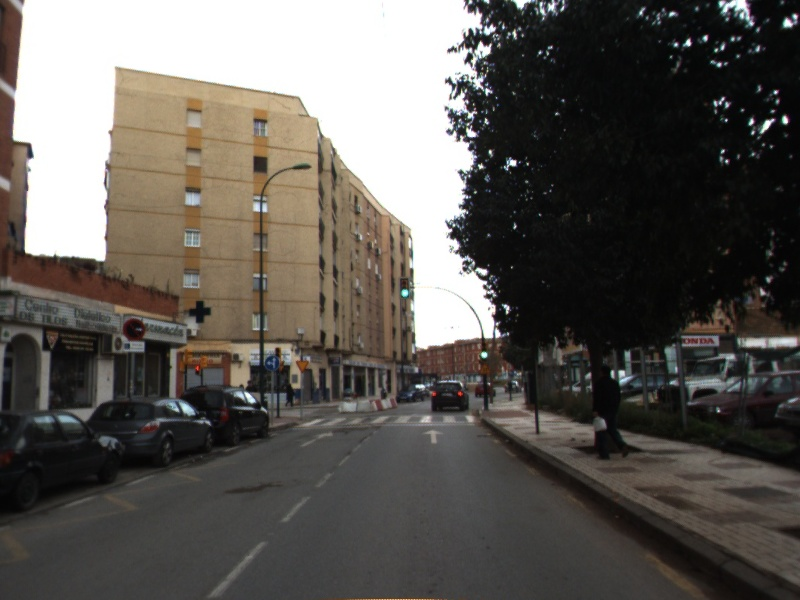STRAIGHT: (297, 429, 336, 449), (420, 427, 447, 446)
